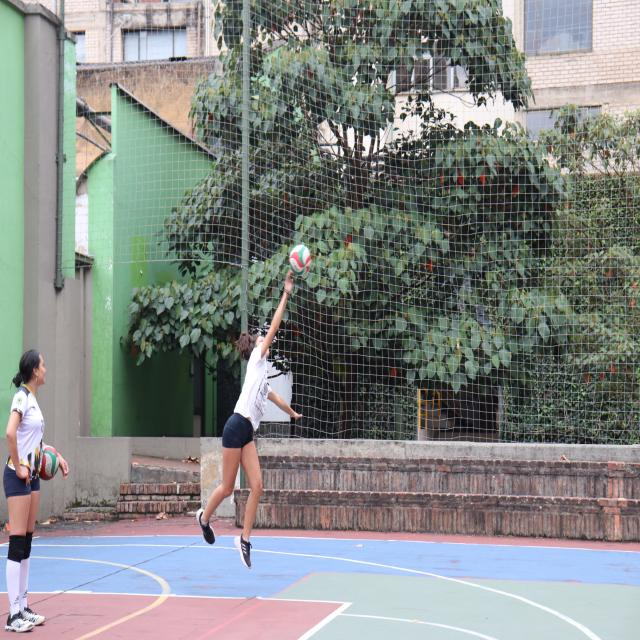volleyball: (290, 245, 311, 278), (39, 444, 57, 482)
